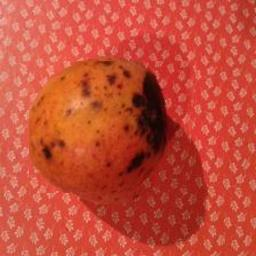Mango Rotten: (29, 62, 197, 195)
